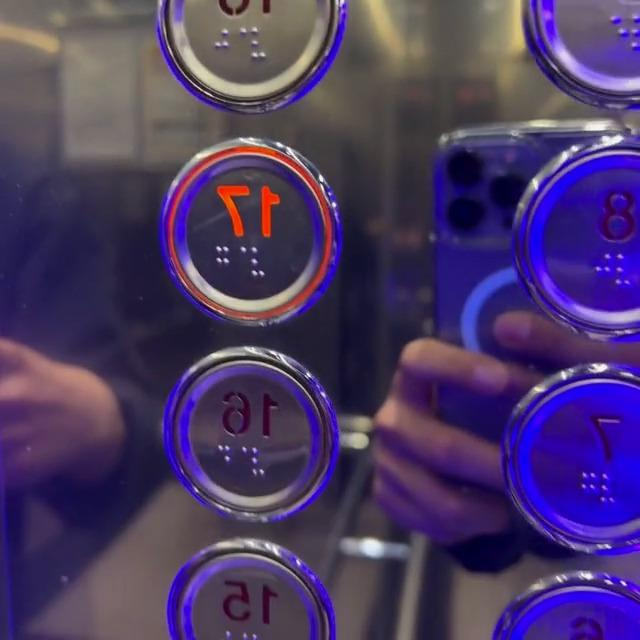button: (169, 355, 340, 509), (157, 153, 323, 306), (506, 140, 640, 320), (519, 366, 640, 543), (152, 547, 332, 640)
